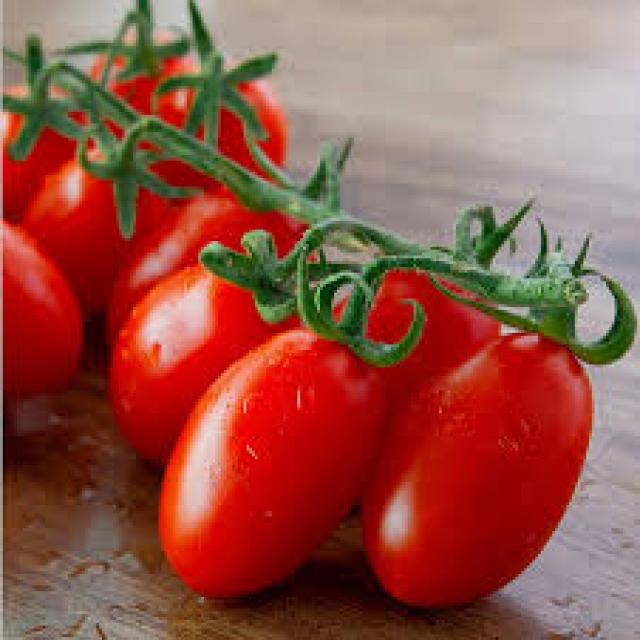organic waste: (363, 327, 589, 606), (158, 330, 380, 606), (102, 252, 343, 448), (332, 255, 498, 508), (105, 190, 311, 350), (17, 149, 201, 304), (156, 66, 283, 198), (0, 218, 79, 396), (88, 20, 192, 132), (0, 80, 85, 212)
